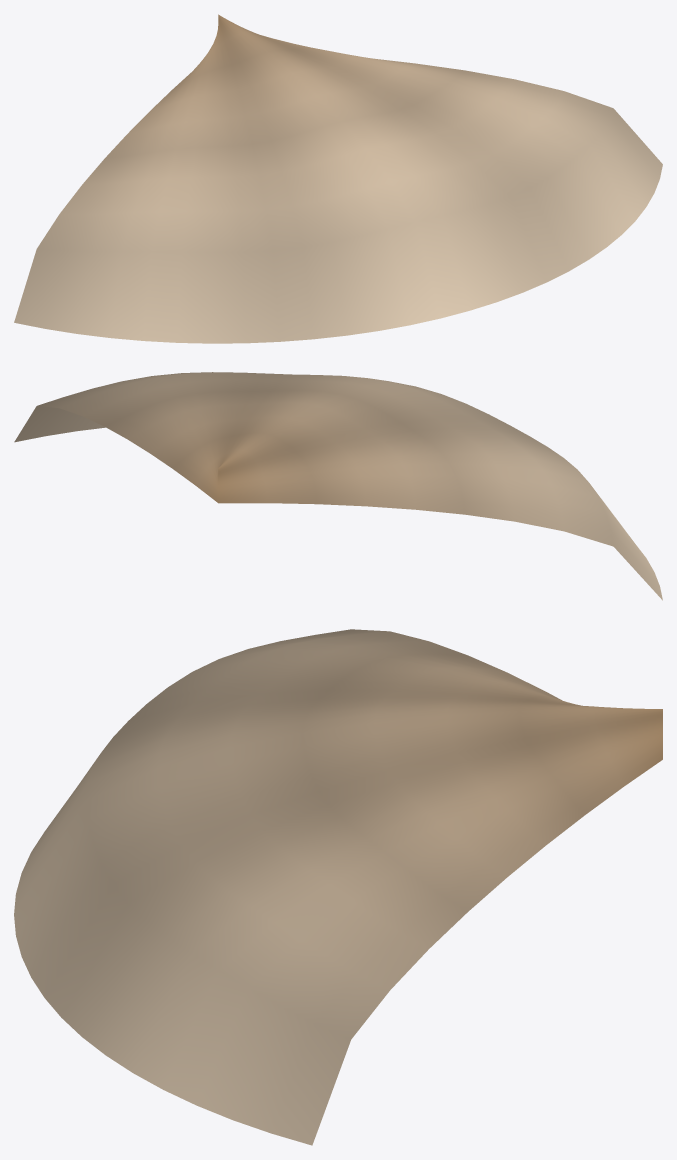
The model's file is item_shell_clam.glb.
3 views of the same model, one above another, from view 1: azimuth 30°, elevation 25°; view 2: azimuth 150°, elevation 25°; view 3: azimuth 270°, elevation 25° (orthographic). The views are drawn at different scales.
Visible parts, largest first — view 1: item_shell_clam_main; view 2: item_shell_clam_main; view 3: item_shell_clam_main.
Part boxes in pixels (x1=…): item_shell_clam_main: x1=14, y1=14, x2=662, y2=343; item_shell_clam_main: x1=14, y1=372, x2=662, y2=600; item_shell_clam_main: x1=14, y1=629, x2=662, y2=1145.
Size of the model in its own units: 0.3366 by 0.07 by 0.2.
